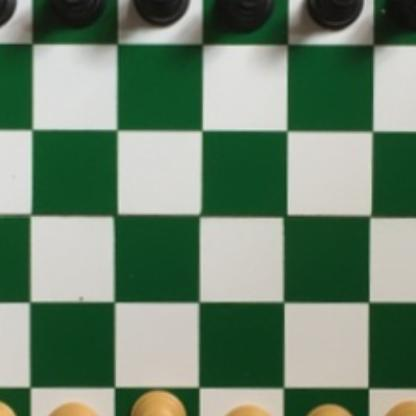black-pawn: (43, 0, 109, 32), (211, 0, 272, 34), (302, 0, 366, 30), (133, 0, 192, 29), (384, 0, 416, 34), (0, 0, 20, 30)
white-pawn: (126, 389, 192, 416), (297, 398, 354, 416), (41, 401, 105, 416), (215, 405, 279, 416), (379, 398, 416, 416), (0, 396, 23, 416)
